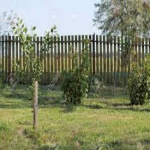Forest: (62, 48, 91, 108), (129, 63, 148, 109)
Uncultivated: (5, 69, 147, 149)
